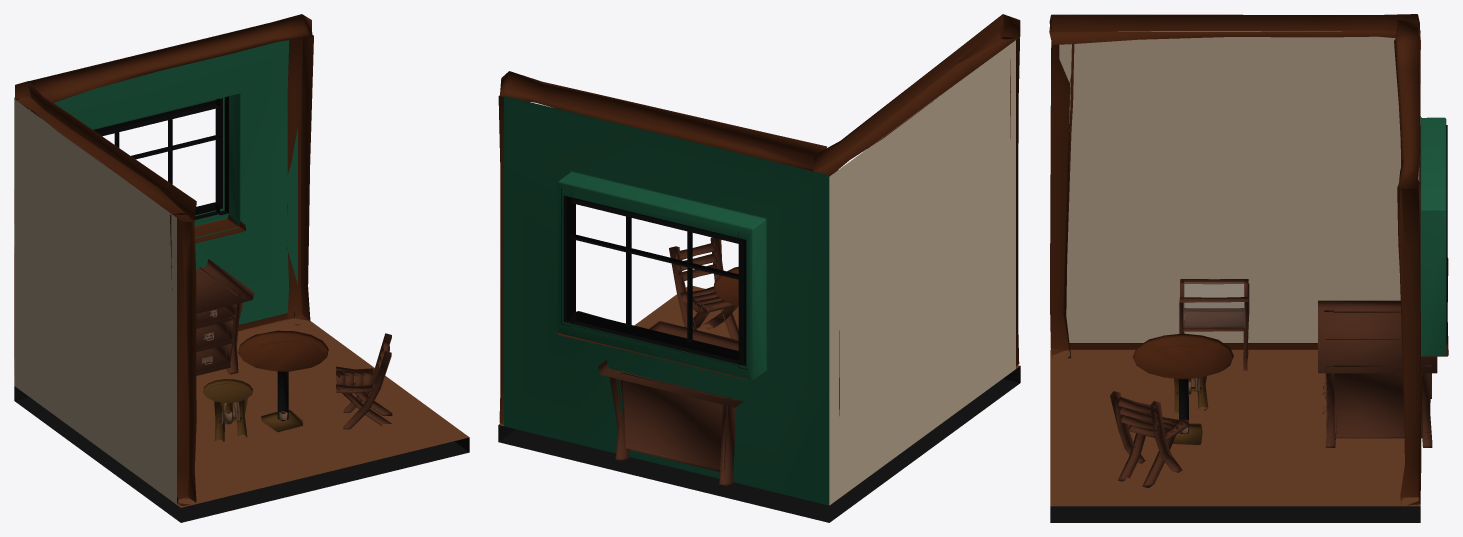
Rendered from room.obj.
3 renders of one model, left to right at view 1: azimuth 30°, elevation 25°; view 2: azimuth 150°, elevation 25°; view 3: azimuth 270°, elevation 25°, orthographic. The views are drawn at different scales.
Visible parts, largest first — view 1: Wall2, Wall1, Floor, Ground_Plate, Beam5, Beam3, Beam2, Beam4, Dresser.001, Table.001, Wooden_Chair.001, Sidetable.001 (+3 smaller); view 2: Wall1, Wall2, Dresser.001, Ground_Plate, Beam5, Beam4, Wooden_Chair.001, Cube.008, Cube.006, Floor, Beam2, Cube.003 (+6 smaller); view 3: Wall2, Floor, Dresser.001, Beam4, Wall1, Beam2, Ground_Plate, Beam3, Table.001, Display_Case.001, Wooden_Chair.001, Beam5 (+3 smaller).
Boxes of the visible parts, x1,y1,x2,y2 form: Wall2: (14, 99, 176, 504); Wall1: (14, 40, 297, 324); Floor: (177, 318, 469, 507); Ground_Plate: (14, 386, 469, 522); Beam5: (28, 14, 312, 102); Beam3: (170, 212, 196, 505); Beam2: (287, 35, 313, 325); Beam4: (15, 81, 196, 222); Dresser.001: (196, 259, 254, 375); Table.001: (238, 330, 328, 432); Wooden_Chair.001: (336, 333, 392, 429); Sidetable.001: (203, 379, 252, 441); Wall1: (504, 96, 829, 505); Wall2: (829, 40, 1015, 505); Dresser.001: (598, 321, 743, 486); Ground_Plate: (498, 366, 1020, 522); Beam5: (500, 71, 826, 170); Beam4: (813, 14, 1020, 176); Wooden_Chair.001: (669, 237, 738, 340); Cube.008: (571, 311, 738, 365); Cube.006: (561, 188, 575, 326); Floor: (499, 286, 1019, 425); Beam2: (498, 95, 529, 424); Cube.003: (738, 232, 748, 369); Wall2: (1059, 31, 1420, 342); Floor: (1050, 349, 1420, 506); Dresser.001: (1318, 300, 1437, 447); Beam4: (1049, 14, 1420, 44); Wall1: (1420, 116, 1446, 356); Beam2: (1397, 179, 1421, 505); Ground_Plate: (1050, 506, 1420, 522); Beam3: (1050, 42, 1074, 358); Table.001: (1133, 333, 1233, 444); Display_Case.001: (1179, 279, 1249, 370); Wooden_Chair.001: (1110, 391, 1188, 488); Beam5: (1396, 20, 1419, 189).
Size of the model in its own units: 8.08 by 8.42 by 8.63.
